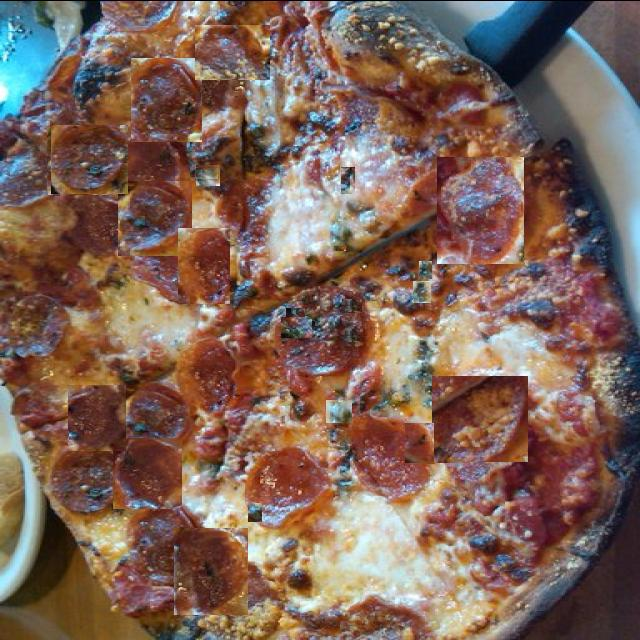basil: (281, 316, 312, 337), (326, 399, 352, 422), (196, 164, 220, 185), (370, 228, 404, 240), (413, 280, 431, 302), (341, 165, 355, 192), (310, 302, 334, 316), (342, 298, 362, 312), (248, 502, 262, 521), (317, 315, 341, 326), (196, 167, 218, 178), (419, 260, 432, 278), (172, 413, 184, 428), (286, 307, 305, 316), (325, 202, 339, 213), (422, 232, 436, 242), (334, 154, 352, 160), (333, 245, 346, 250), (407, 263, 416, 267)
pepperoni: (437, 156, 524, 263), (272, 267, 368, 353), (432, 375, 528, 461), (174, 527, 248, 614), (131, 57, 202, 141), (127, 336, 208, 407), (118, 180, 192, 255), (47, 126, 126, 194), (51, 124, 128, 193), (113, 437, 182, 508), (105, 23, 186, 78), (195, 24, 270, 79), (178, 227, 230, 303), (68, 384, 126, 449), (34, 332, 98, 381), (95, 609, 184, 639), (406, 422, 436, 462), (422, 452, 480, 472)
pizza: (0, 0, 640, 640)
